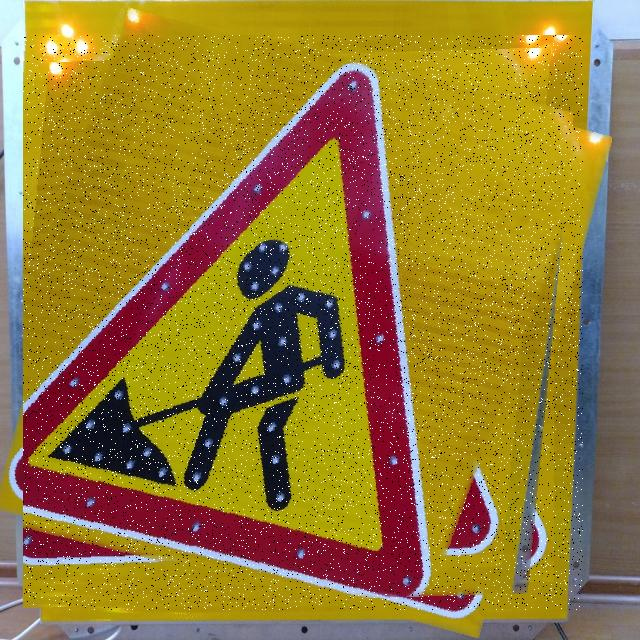roadwork: (23, 35, 583, 610)
